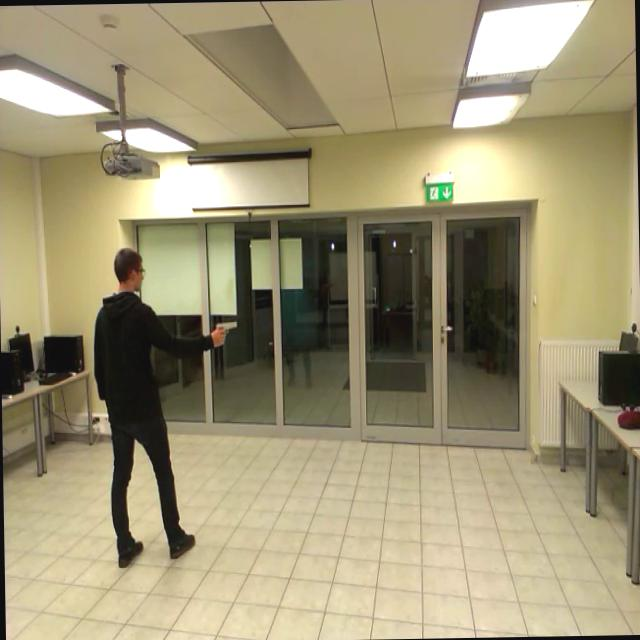handgun: (208, 308, 244, 361)
